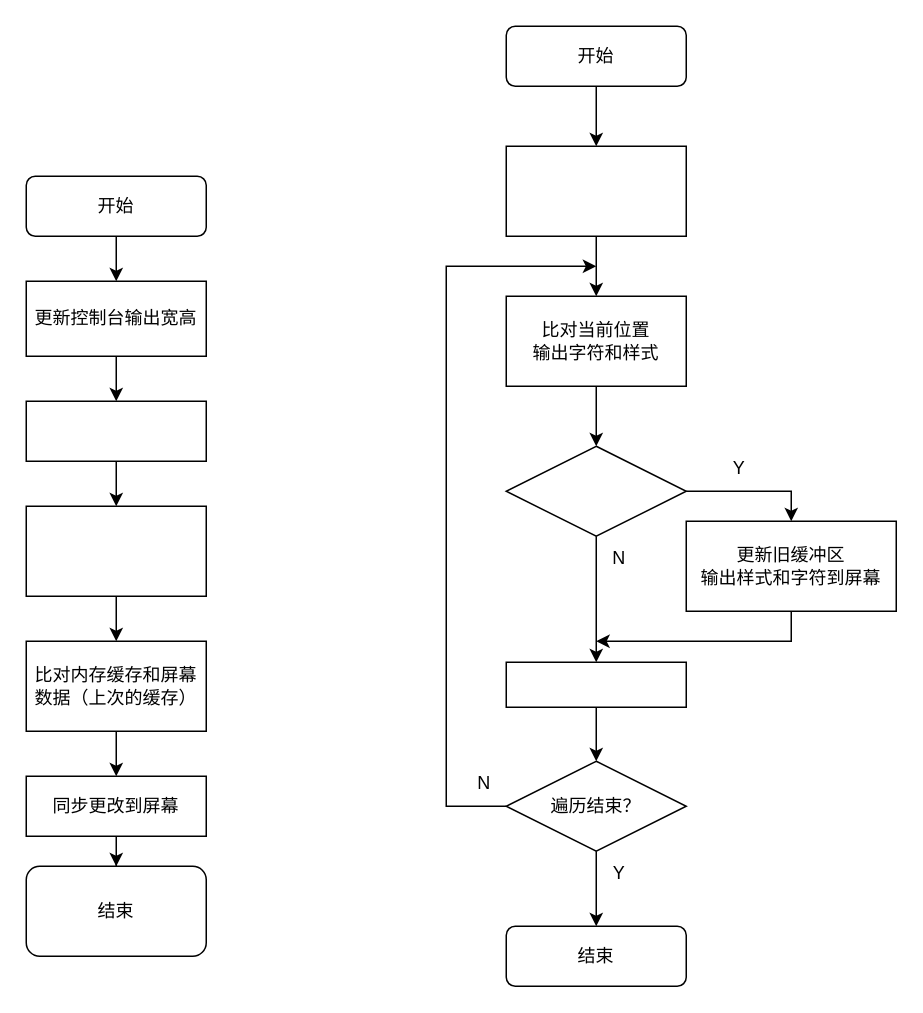
Image size: 923x1013. Some labels were removed from this diagram. The centre of each missing label's shape, as x and y in pixels:
View输出数据到 控制台内存缓存: point 115,550
下一个位置: point 595,684
准备新的内存缓存: point 115,430
初始化样式和 遍历位置: point 595,190
有更改？: point 595,490
